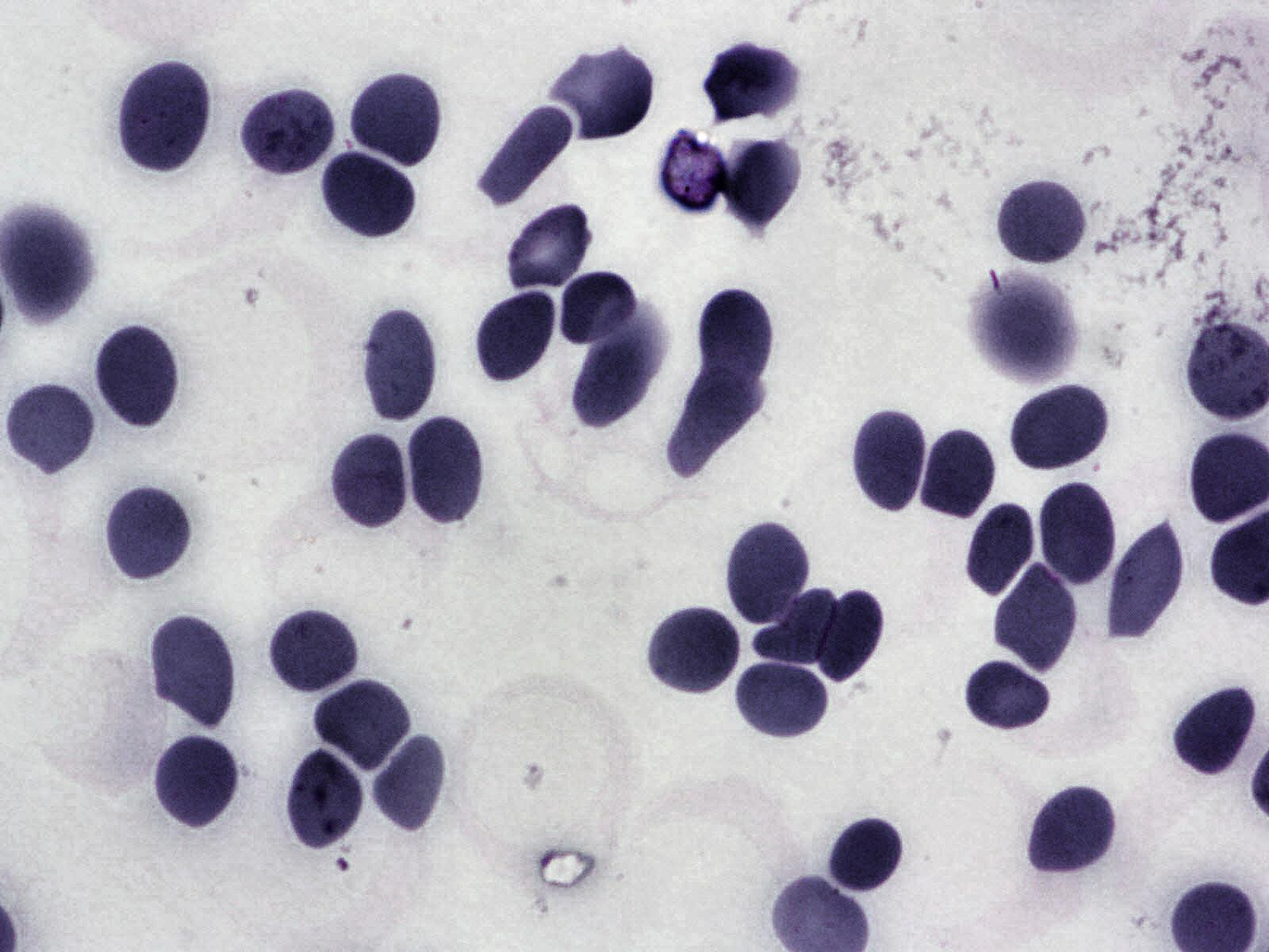Uninfected: (669, 359, 765, 478), (347, 68, 446, 173), (974, 283, 1079, 380), (114, 62, 210, 167), (309, 679, 409, 777), (996, 562, 1083, 674), (478, 105, 575, 204), (320, 150, 420, 245), (152, 729, 244, 831), (1184, 424, 1268, 535), (1113, 524, 1190, 645), (1026, 781, 1121, 879), (995, 175, 1091, 271), (1037, 479, 1120, 590), (403, 413, 481, 530), (149, 617, 234, 724), (556, 49, 654, 141), (93, 328, 178, 433), (1175, 681, 1264, 781), (725, 524, 811, 625), (1012, 382, 1110, 470), (325, 432, 405, 539), (571, 325, 654, 428), (103, 486, 189, 585), (477, 286, 561, 386), (358, 315, 432, 425), (240, 90, 335, 175), (286, 743, 364, 846), (508, 197, 591, 291), (9, 381, 89, 478), (649, 612, 741, 696), (704, 45, 800, 123), (374, 735, 448, 835), (698, 290, 776, 384), (919, 425, 996, 520), (963, 655, 1056, 733), (857, 414, 927, 517), (969, 496, 1039, 597), (270, 614, 358, 694), (720, 134, 800, 221), (739, 662, 828, 736), (815, 589, 883, 681), (756, 592, 837, 668), (555, 271, 634, 344), (831, 818, 903, 896)
